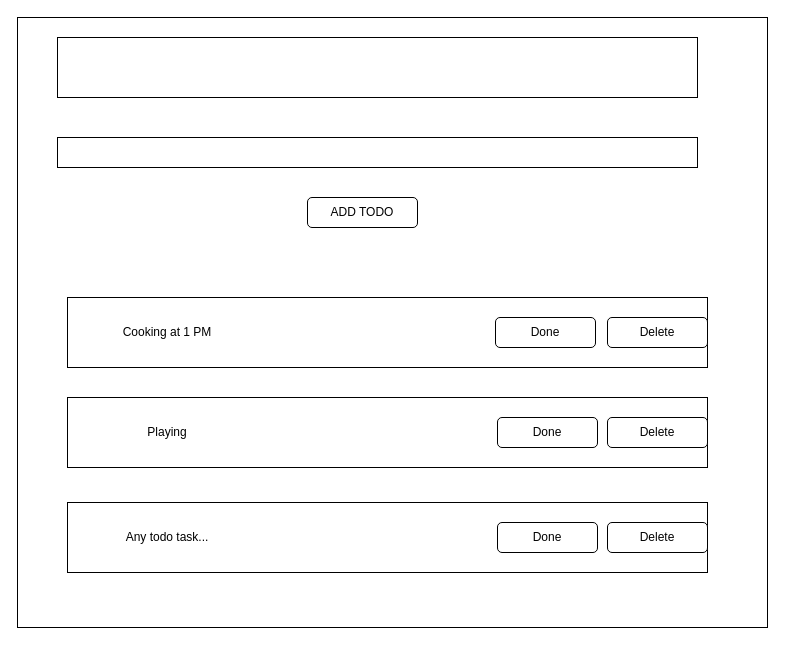
This 785x645 diagram has some shape labels left out. The box of each missing label's shape, as (x1, y1, x2, y2) in pixels:
TODO APPLICATION: (56, 36, 698, 98)
Type something...: (56, 136, 698, 168)
